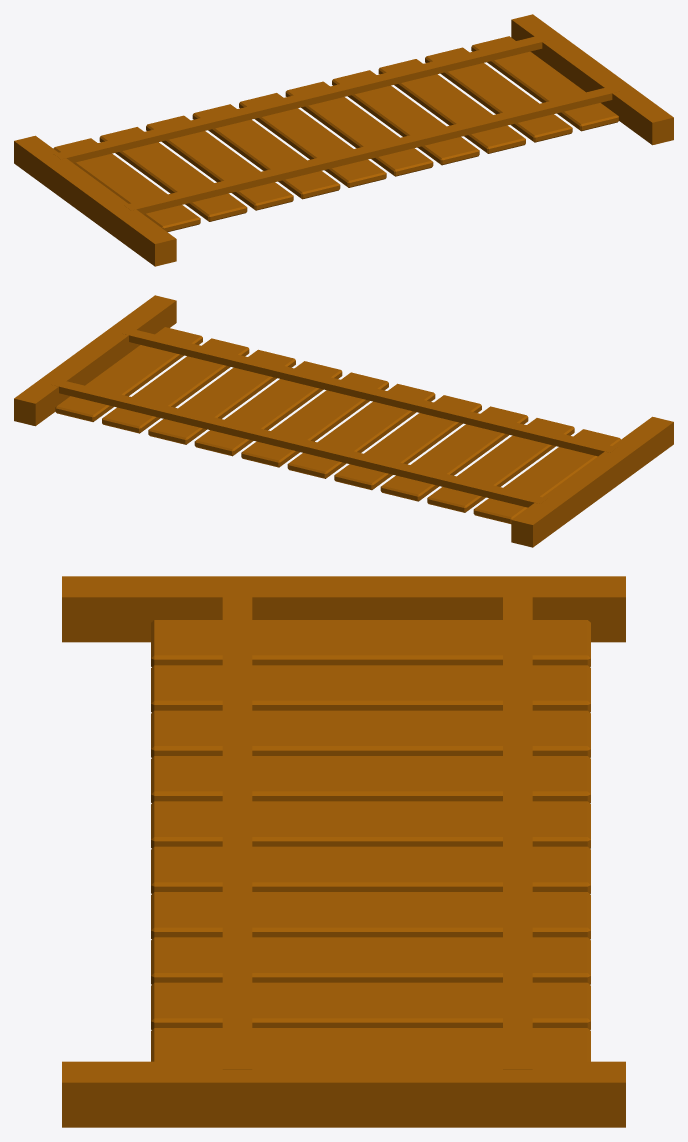
Rendered from ZaborKol.fbx.
The picture shows the model from 3 angles, top to bottom: view 1: azimuth 30°, elevation 25°; view 2: azimuth 150°, elevation 25°; view 3: azimuth 270°, elevation 25°; orthographic projection. The views are drawn at different scales.
Visible parts, largest first — view 1: Cube, Cube.003; view 2: Cube, Cube.003; view 3: Cube, Cube.003.
Boxes of the visible parts, x1,y1,x2,y2 form: Cube: [53, 36, 618, 232]; Cube.003: [14, 14, 673, 266]; Cube: [55, 327, 620, 523]; Cube.003: [14, 295, 673, 547]; Cube: [151, 620, 590, 1061]; Cube.003: [62, 576, 625, 1127].
Size of the model in its own units: 723 by 30.12 by 341.
